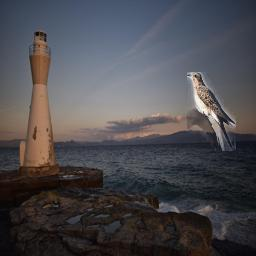Cuckoo: (187, 72, 236, 151)
